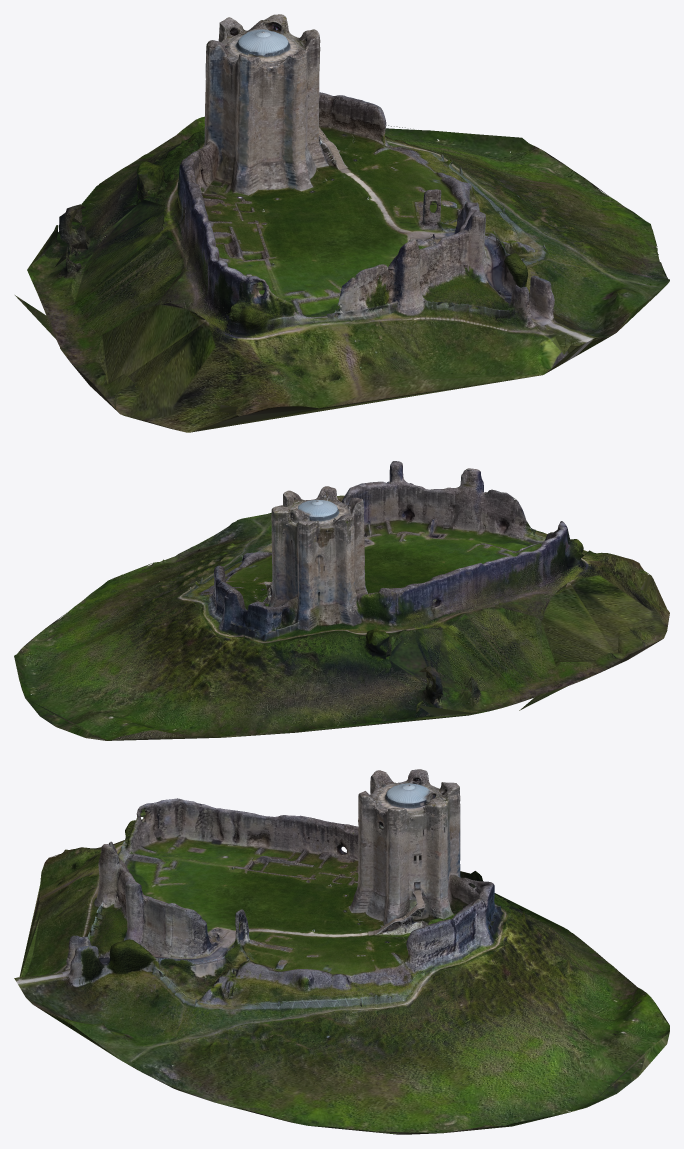
Rendered from conisbrough_castle_-_medieval_fortification.glb.
3 views of the same model, one above another, from view 1: azimuth 30°, elevation 25°; view 2: azimuth 150°, elevation 25°; view 3: azimuth 270°, elevation 25° (orthographic). The views are drawn at different scales.
Visible parts, largest first — view 1: Object_5, Object_3, Object_2, Object_4; view 2: Object_3, Object_5, Object_4, Object_2; view 3: Object_3, Object_5, Object_2, Object_4.
Part boxes in pixels (x1=…): Object_5: x1=28, y1=14, x2=669, y2=432; Object_3: x1=15, y1=14, x2=669, y2=424; Object_2: x1=27, y1=14, x2=669, y2=417; Object_4: x1=17, y1=17, x2=665, y2=413; Object_3: x1=18, y1=461, x2=668, y2=737; Object_5: x1=14, y1=461, x2=669, y2=740; Object_4: x1=17, y1=461, x2=659, y2=740; Object_2: x1=19, y1=462, x2=665, y2=740; Object_3: x1=18, y1=776, x2=666, y2=1133; Object_5: x1=16, y1=769, x2=669, y2=1134; Object_2: x1=17, y1=771, x2=669, y2=1133; Object_4: x1=14, y1=769, x2=669, y2=1134.
Bounding box in the file's own units: 4.06 × 1.51 × 4.23.
Materials: 4 (4 with a texture image).
